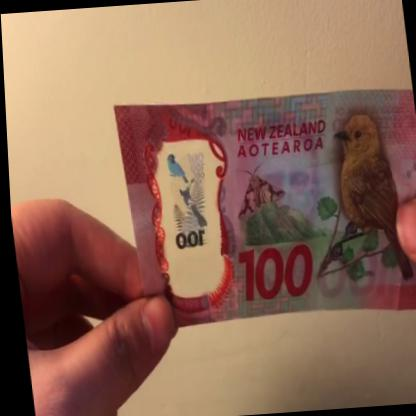100B: (159, 145, 219, 277)
